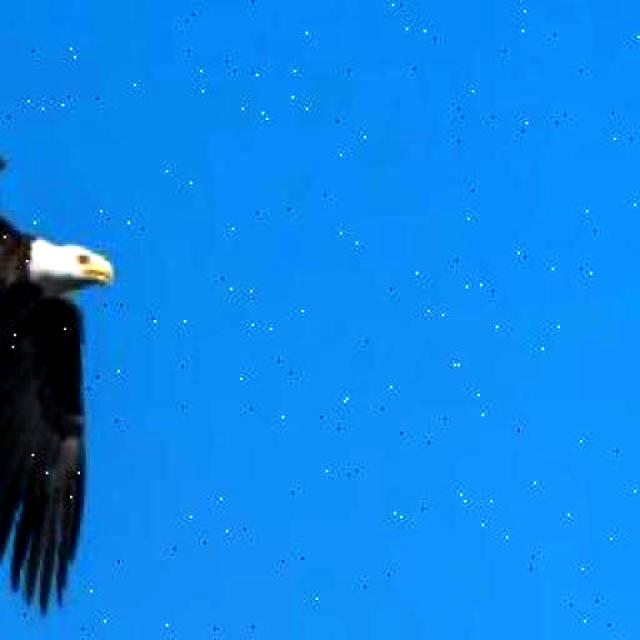airplane: (0, 136, 146, 640)
